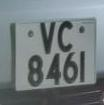1: (77, 48, 89, 86)
4: (46, 53, 65, 90)
6: (62, 51, 80, 87)
8: (26, 53, 46, 92)
C: (57, 19, 74, 54)
V: (37, 20, 57, 54)
